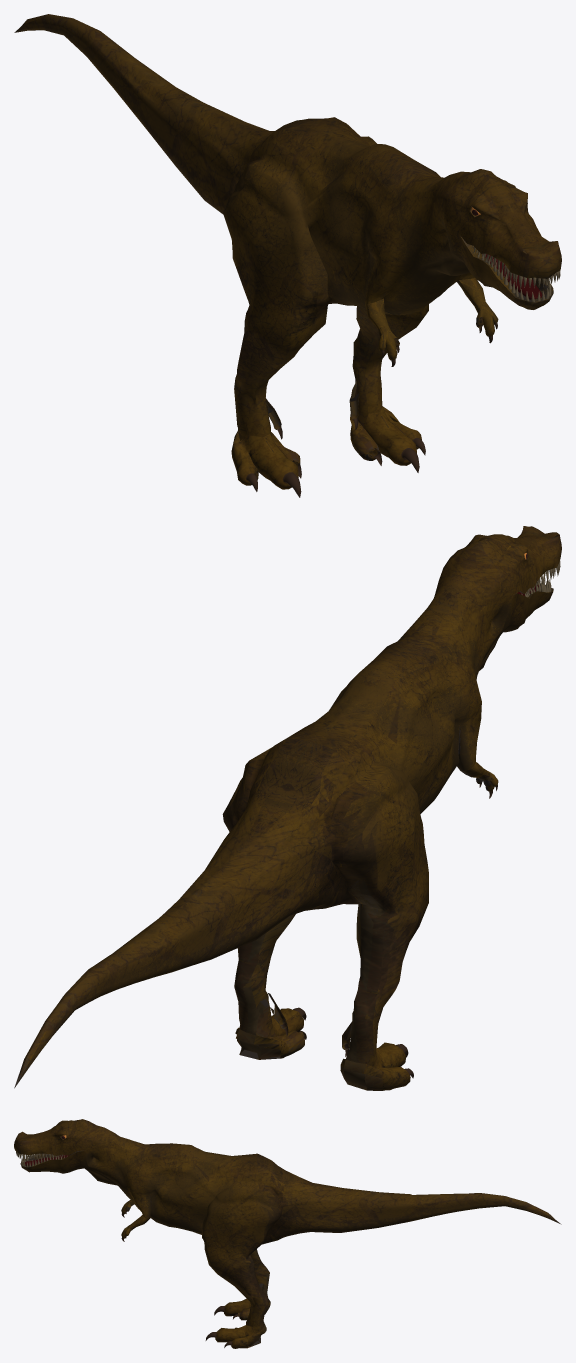
Rendered from trex.obj.
3 renders of one model, top to bottom at view 1: azimuth 30°, elevation 25°; view 2: azimuth 150°, elevation 25°; view 3: azimuth 270°, elevation 25°, orthographic. The views are drawn at different scales.
Size of the model in its own units: 3.88 by 8.73 by 20.59.
6 materials, 1 textured.
